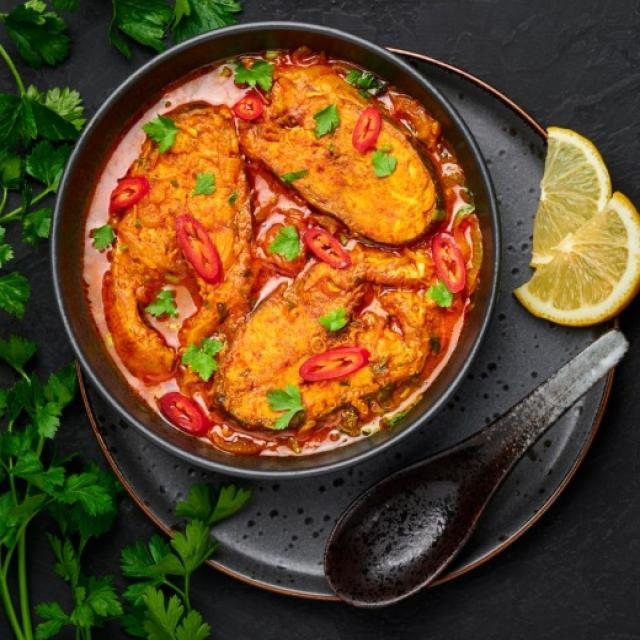FISH CURRY: (80, 48, 494, 455)
